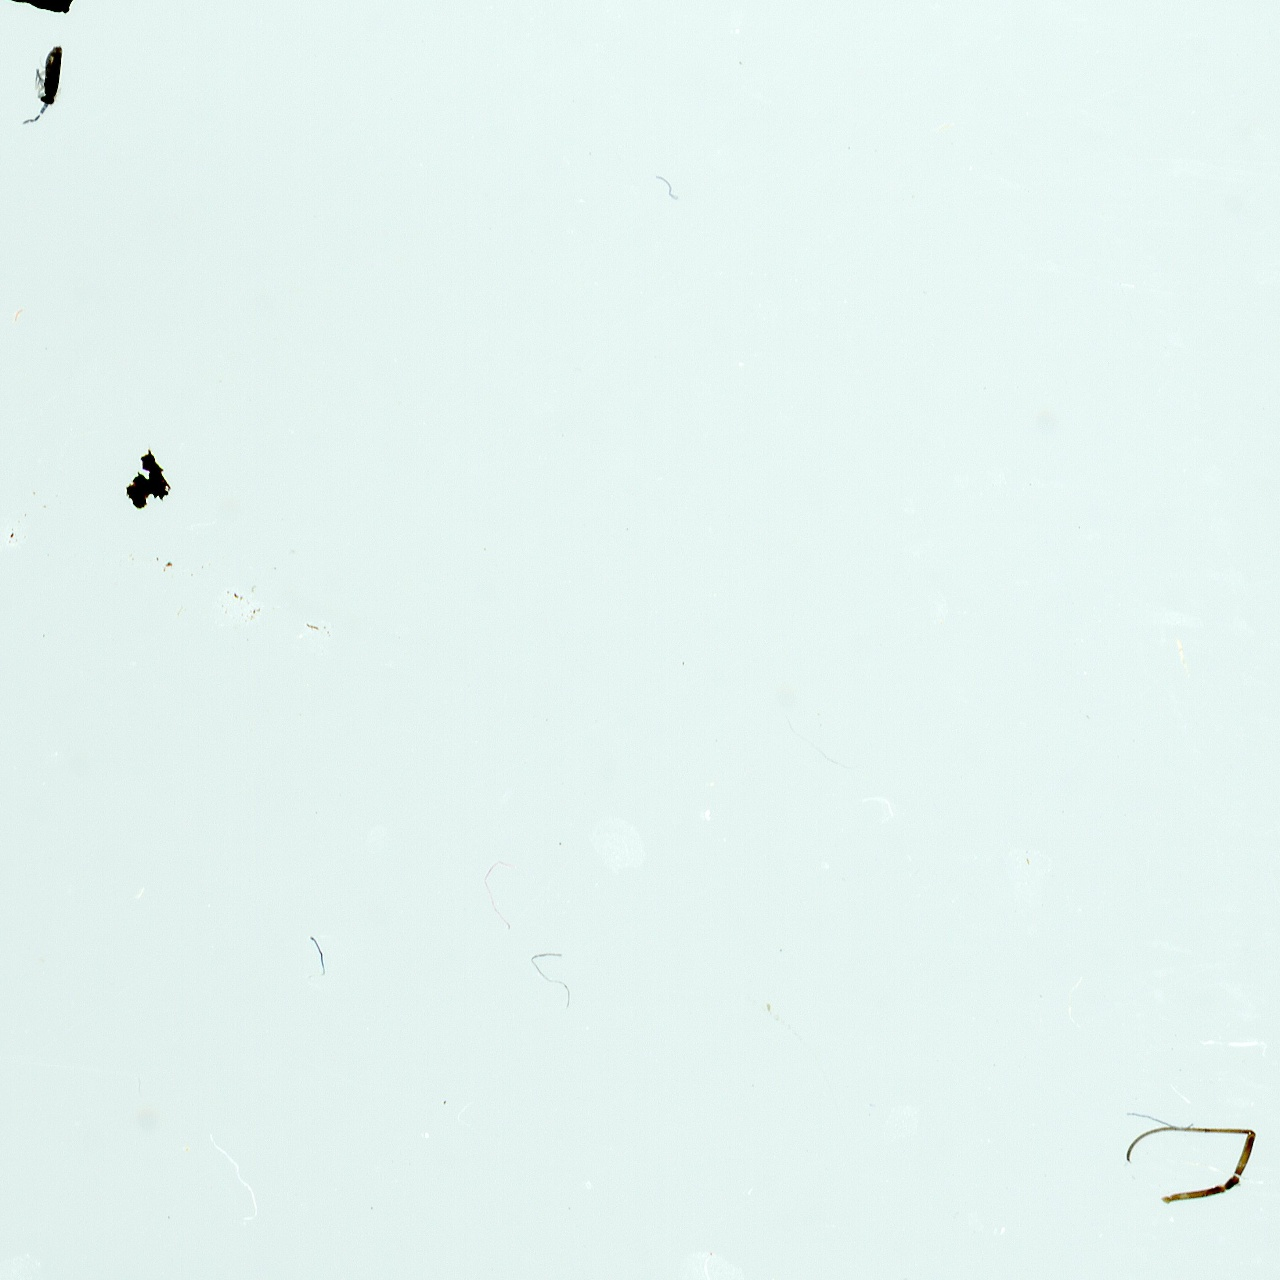arthropod: (13, 23, 74, 143)
